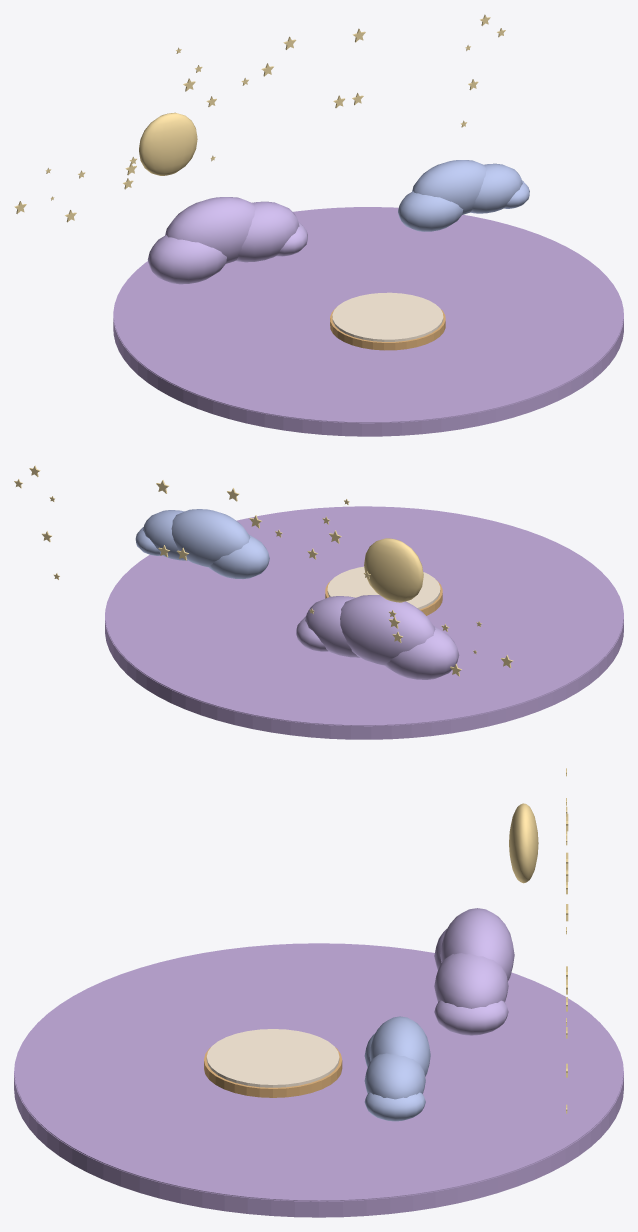
File: ceu.glb
3 views of the same model, one above another, from view 1: azimuth 30°, elevation 25°; view 2: azimuth 150°, elevation 25°; view 3: azimuth 270°, elevation 25° (orthographic). The views are drawn at different scales.
Parts seen in each view (by area): view 1: Diorama piping.003, Diorama base.003, Look pedestal.003, Puffy cloud.009, Honey moon, Puffy cloud.008, Puffy cloud.013, Puffy cloud.010, Puffy cloud.012, Puffy cloud.014, Look pedestal trim.003; view 2: Diorama piping.003, Diorama base.003, Puffy cloud.009, Puffy cloud.013, Honey moon, Puffy cloud.008, Puffy cloud.010, Look pedestal.003, Puffy cloud.012, Puffy cloud.014, Puffy cloud.011; view 3: Diorama piping.003, Diorama base.003, Look pedestal.003, Puffy cloud.010, Puffy cloud.009, Puffy cloud.014, Puffy cloud.013, Puffy cloud.011, Honey moon, Look pedestal trim.003, Puffy cloud.015.
Part boxes in pixels (x1,y1,x2,y2): Diorama piping.003: (114, 207, 623, 422); Diorama base.003: (113, 279, 623, 436); Look pedestal.003: (332, 292, 443, 341); Puffy cloud.009: (165, 197, 256, 263); Honey moon: (139, 112, 197, 175); Puffy cloud.008: (147, 235, 226, 284); Puffy cloud.013: (412, 160, 487, 214); Puffy cloud.010: (236, 201, 299, 262); Puffy cloud.012: (398, 191, 463, 231); Puffy cloud.014: (470, 163, 522, 213); Look pedestal trim.003: (330, 307, 445, 350); Diorama piping.003: (105, 506, 623, 725); Diorama base.003: (105, 583, 623, 739); Puffy cloud.009: (340, 595, 435, 665); Puffy cloud.013: (171, 509, 250, 567); Honey moon: (364, 538, 423, 602); Puffy cloud.008: (385, 626, 459, 679); Puffy cloud.010: (305, 596, 359, 657); Look pedestal.003: (327, 566, 440, 609); Puffy cloud.012: (209, 535, 269, 578); Puffy cloud.014: (143, 510, 187, 560); Puffy cloud.011: (296, 616, 328, 651); Diorama piping.003: (14, 943, 623, 1201); Diorama base.003: (14, 1042, 623, 1217); Look pedestal.003: (206, 1029, 339, 1087); Puffy cloud.010: (434, 953, 508, 1008); Puffy cloud.009: (440, 908, 514, 981); Puffy cloud.014: (364, 1053, 425, 1099); Puffy cloud.013: (369, 1016, 430, 1076); Puffy cloud.011: (434, 1000, 508, 1035); Honey moon: (509, 803, 538, 883); Look pedestal trim.003: (204, 1047, 342, 1097); Puffy cloud.015: (364, 1092, 425, 1121).
Size of what is drawn, in the model's own units: 9.59 by 4.22 by 8.64.
